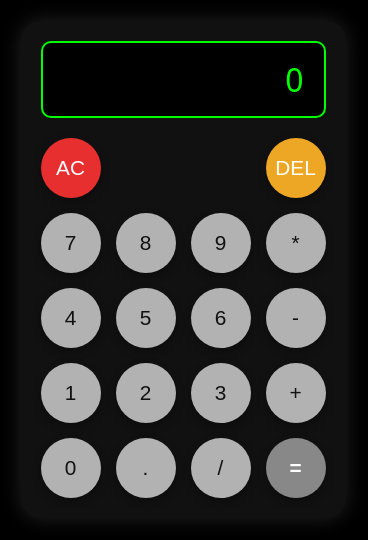
Scenario: DEL deletes last character
The width and height of the screenshot is (368, 540).
What coordinates should you click on to do the following:
click the button "1"
I would click on:
 (70, 392)
Its box is [40,362,100,422].
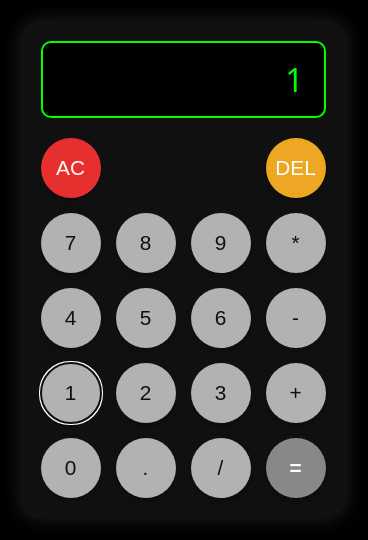
What coordinates should you click on to do the following:
click the button "2"
I would click on:
 (146, 392)
Its box is [116,362,176,422].
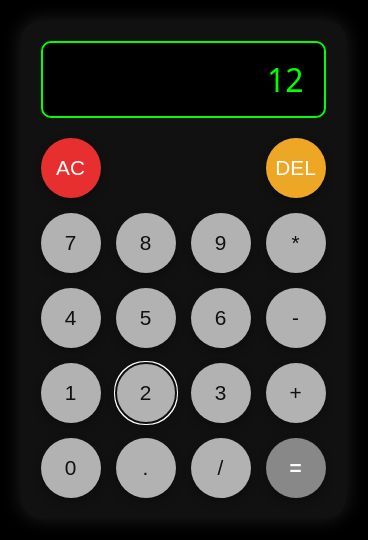
Check: the text with test id "display" reads "12", box [267,58,304,100]
What coordinates should you click on to do the following:
click the button "DEL"
I would click on:
 (296, 168)
Its box is [266,138,326,198].
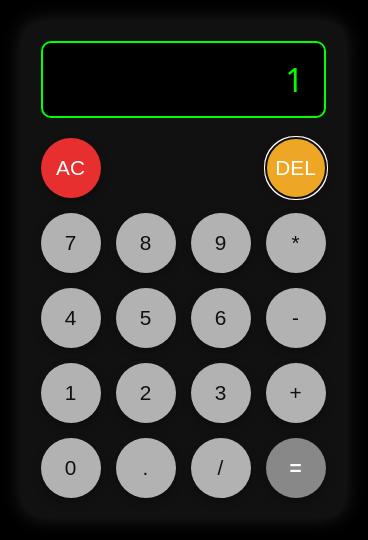
Check: the text with test id "display" reads "1", box [285,58,304,100]
